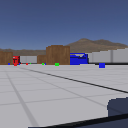blue_basket: (70, 53, 89, 65)
blue_cube: (98, 61, 105, 68), (44, 62, 47, 66), (7, 62, 10, 65), (18, 62, 20, 65)
green_cube: (54, 62, 59, 66), (42, 62, 44, 65), (29, 62, 31, 64)
obstacle: (46, 45, 70, 65), (1, 51, 13, 65), (36, 55, 46, 64)
red_basket: (12, 56, 20, 65)
red_cube: (25, 62, 28, 65), (14, 63, 17, 66)
